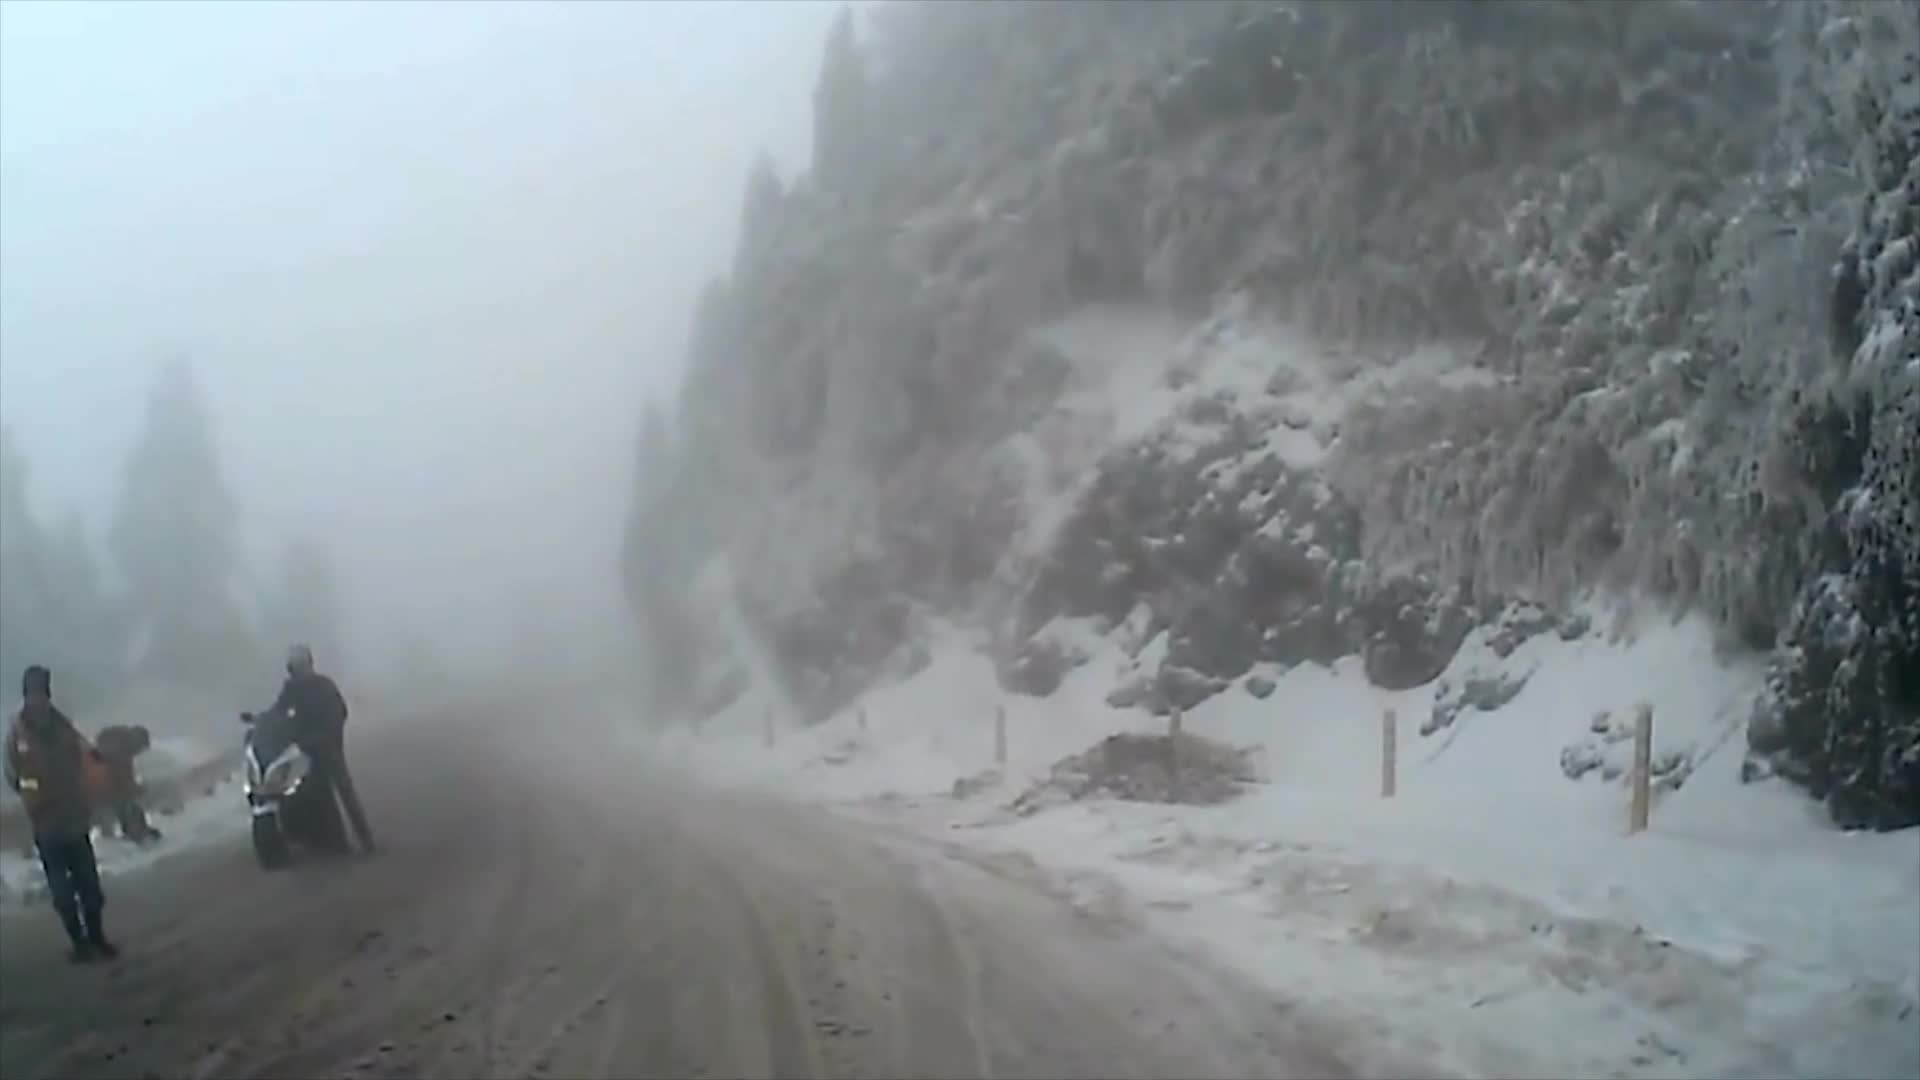pedestrian: (2, 665, 117, 961), (255, 635, 389, 861), (88, 725, 164, 845)
